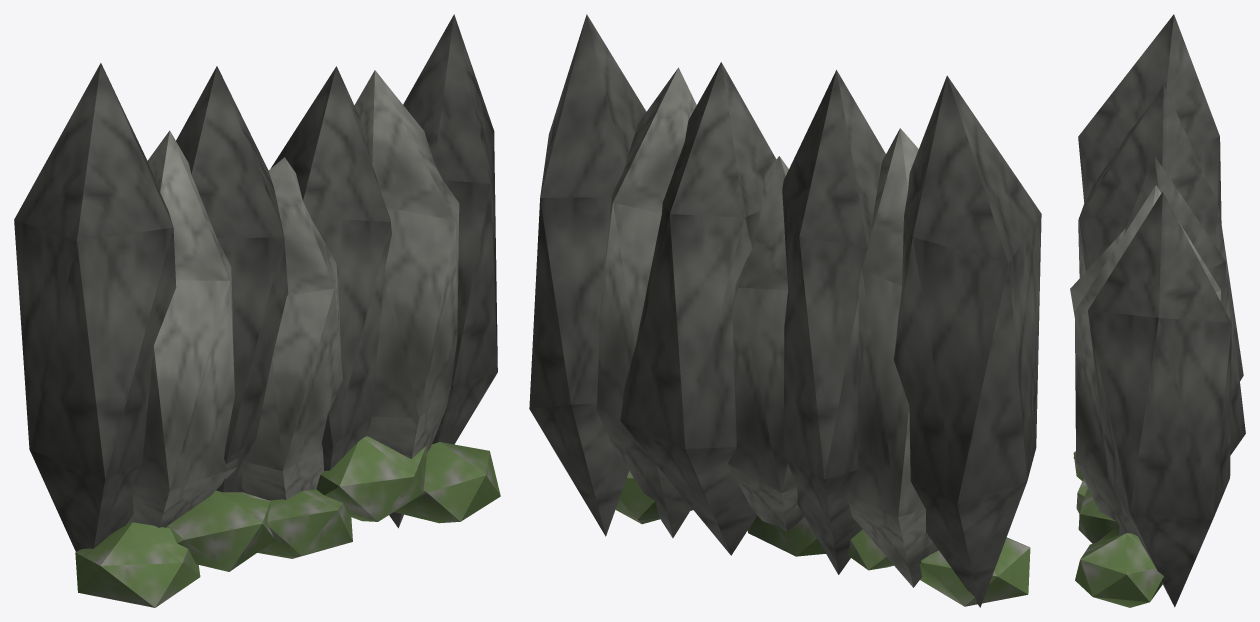
The model's file is SM_Cliff_Face01_LOD1.fbx.
The picture shows the model from 3 angles, left to right: view 1: azimuth 30°, elevation 25°; view 2: azimuth 150°, elevation 25°; view 3: azimuth 270°, elevation 25°; orthographic projection. The views are drawn at different scales.
Parts seen in each view (by area): view 1: SM_Cliff_Face01_LOD1; view 2: SM_Cliff_Face01_LOD1; view 3: SM_Cliff_Face01_LOD1.
Part boxes in pixels (left/top/right/bottom): SM_Cliff_Face01_LOD1: left=14, top=14, right=500, bottom=607; SM_Cliff_Face01_LOD1: left=529, top=14, right=1041, bottom=607; SM_Cliff_Face01_LOD1: left=1070, top=14, right=1245, bottom=607.
Size of the model in its own units: 23.77 by 25.76 by 8.93.
Materials: 1 (1 with a texture image).
